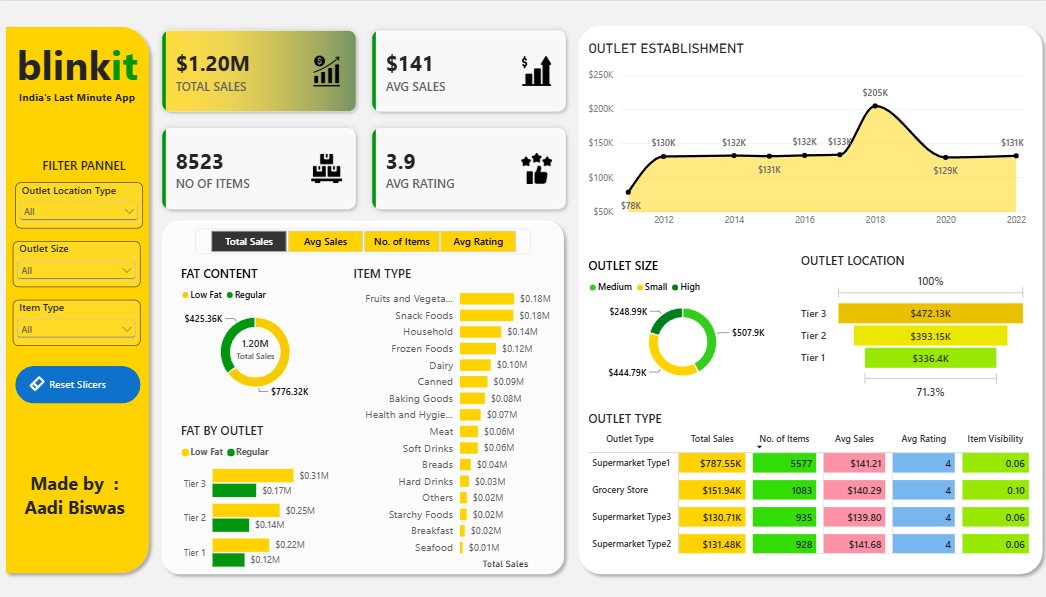

The dashboard page shown, as its layout file describes it:
{"tool":"powerbi","page":{"name":"Page 1","canvas":[1400,800],"ordinal":0},"visuals":[{"type":"shape","box":[0,25.5,209.1,746.7],"z":0},{"type":"textbox","box":[0,48.6,208.6,84.3],"z":1000},{"type":"textbox","box":[0,118.6,208.6,40],"z":2000},{"type":"cardVisual","fields":{"Data":["BlinkIT Grocery Data.Total Sales","BlinkIT Grocery Data.Avg Sales","BlinkIT Grocery Data.No. of Items","BlinkIT Grocery Data.Avg Rating"]},"box":[201.4,22.9,570,270],"z":3000},{"type":"shape","box":[208.6,282.9,554,490],"z":4000},{"type":"donutChart","title":"FAT CONTENT","fields":{"Category":["BlinkIT Grocery Data.Item Fat Content"],"Y":["BlinkIT Grocery Data.Total Sales"]},"box":[227.1,337.1,230,210],"z":5000},{"type":"slicer","fields":{"Values":["Metrics.Metrics"]},"box":[261.4,302.9,447.1,34.3],"z":6000},{"type":"cardVisual","fields":{"Data":["BlinkIT Grocery Data.Total Sales"]},"box":[298.9,442.4,87.1,44.3],"z":7000},{"type":"clusteredBarChart","title":"FAT BY OUTLET","fields":{"Category":["BlinkIT Grocery Data.Outlet Location Type"],"Series":["BlinkIT Grocery Data.Item Fat Content"],"Y":["BlinkIT Grocery Data.Total Sales"]},"box":[227.1,547.1,230,225.7],"z":8000},{"type":"barChart","title":"ITEM TYPE","fields":{"Category":["BlinkIT Grocery Data.Item Type"],"Y":["BlinkIT Grocery Data.Total Sales"]},"box":[457.1,337.1,295.7,435.7],"z":9000},{"type":"shape","box":[762.7,22.8,637.1,750],"z":10000},{"type":"lineChart","title":"OUTLET ESTABLISHMENT","fields":{"Category":["BlinkIT Grocery Data.Outlet Establishment Year"],"Y":["BlinkIT Grocery Data.Total Sales"]},"box":[769.4,37.5,615.3,282.8],"z":11000},{"type":"donutChart","title":"OUTLET SIZE","fields":{"Category":["BlinkIT Grocery Data.Outlet Size"],"Y":["BlinkIT Grocery Data.Total Sales"]},"box":[770,327.1,282.9,202.9],"z":12000},{"type":"pivotTable","title":"OUTLET TYPE","fields":{"Rows":["BlinkIT Grocery Data.Outlet Type"],"Values":["BlinkIT Grocery Data.Total Sales","BlinkIT Grocery Data.No. of Items","BlinkIT Grocery Data.Avg Sales","BlinkIT Grocery Data.Avg Rating","Avg(BlinkIT Grocery Data.Item Visibility)"]},"box":[770,530,630,242.9],"z":14000},{"type":"slicer","fields":{"Values":["BlinkIT Grocery Data.Outlet Location Type"]},"box":[21.4,241.4,170,61.4],"z":14001},{"type":"slicer","fields":{"Values":["BlinkIT Grocery Data.Outlet Size"]},"box":[18.6,320,170,61.4],"z":14002},{"type":"slicer","fields":{"Values":["BlinkIT Grocery Data.Item Type"]},"box":[18.6,398.6,170,61.4],"z":14003},{"type":"funnel","title":"OUTLET LOCATION","fields":{"Category":["BlinkIT Grocery Data.Outlet Location Type"],"Y":["BlinkIT Grocery Data.Total Sales"]},"box":[1052.9,320,332.9,227.1],"z":14004},{"type":"textbox","box":[18.6,208.6,190,32.9],"z":14005},{"type":"actionButton","box":[21.4,487.1,167.1,50],"z":14006},{"type":"textbox","box":[0,627.1,201.4,135.7],"z":14007}]}

Visuals, with their boxes in screenshot pixels (x1, y1, x2, y2), scaled from the page's 1400x800 canvas onto the 1046x597 screenshot:
shape: select_region(0, 19, 156, 576)
textbox: select_region(0, 36, 156, 99)
textbox: select_region(0, 89, 156, 118)
cardVisual - BlinkIT Grocery Data.Total Sales x BlinkIT Grocery Data.Avg Sales: select_region(150, 17, 576, 219)
shape: select_region(156, 211, 570, 577)
"FAT CONTENT" donutChart: select_region(170, 252, 342, 408)
slicer - Metrics.Metrics: select_region(195, 226, 529, 252)
cardVisual - BlinkIT Grocery Data.Total Sales: select_region(223, 330, 288, 363)
"FAT BY OUTLET" clusteredBarChart: select_region(170, 408, 342, 577)
"ITEM TYPE" barChart: select_region(342, 252, 562, 577)
shape: select_region(570, 17, 1045, 577)
"OUTLET ESTABLISHMENT" lineChart: select_region(575, 28, 1035, 239)
"OUTLET SIZE" donutChart: select_region(575, 244, 787, 396)
"OUTLET TYPE" pivotTable: select_region(575, 396, 1045, 577)
slicer - BlinkIT Grocery Data.Outlet Location Type: select_region(16, 180, 143, 226)
slicer - BlinkIT Grocery Data.Outlet Size: select_region(14, 239, 141, 285)
slicer - BlinkIT Grocery Data.Item Type: select_region(14, 297, 141, 343)
"OUTLET LOCATION" funnel: select_region(787, 239, 1035, 408)
textbox: select_region(14, 156, 156, 180)
actionButton: select_region(16, 363, 141, 401)
textbox: select_region(0, 468, 150, 569)
